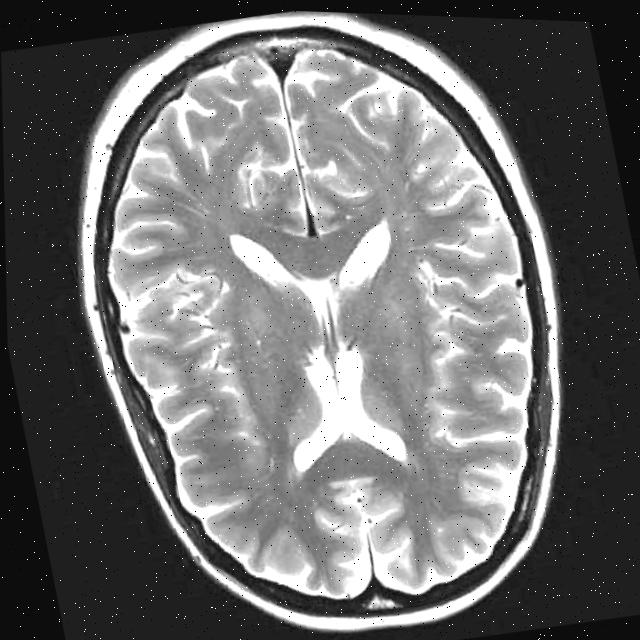NoTumor: (30, 1, 624, 640)
